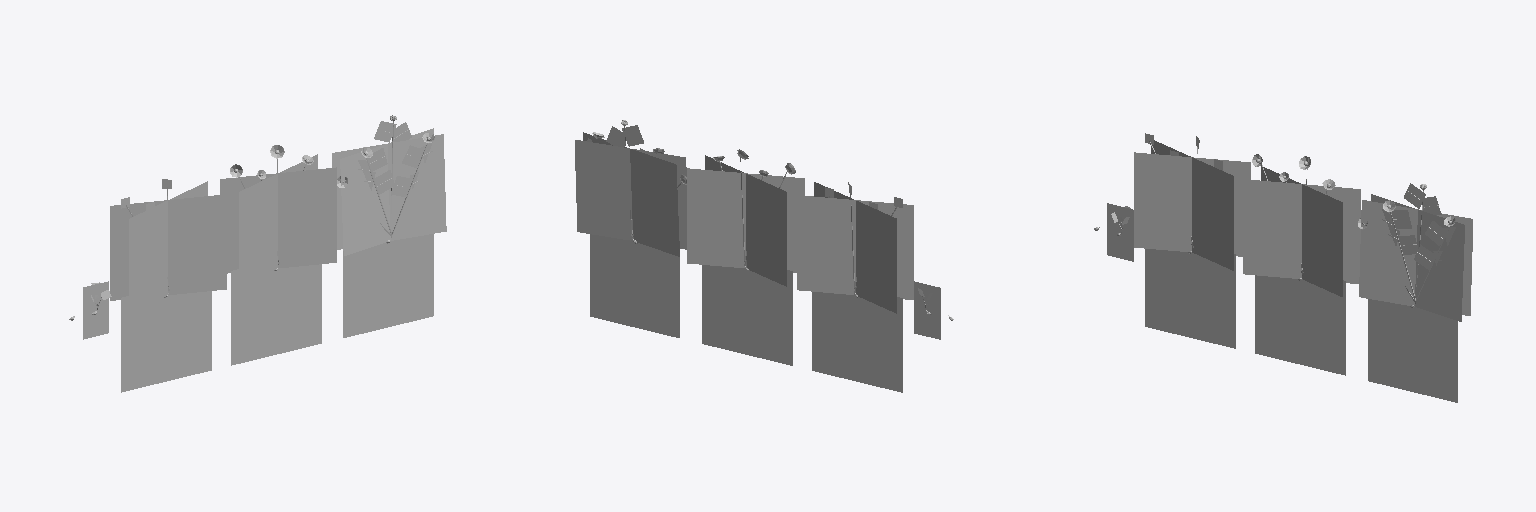
File: MODEL_RanunculusStages_G4_1.obj
The picture shows the model from 3 angles: view 1: azimuth 30°, elevation 25°; view 2: azimuth 150°, elevation 25°; view 3: azimuth 330°, elevation 25°; orthographic projection.
Visible parts, largest first — view 1: geo_plant_low1 geo_roots_plane, geo_plantBulb_low geo_roots_plane3, geo_roots_plane geo_plantBulb_low, geo_plantFlowers_low1 geo_roots_plane, geo_plantFlowers_low1 geo_roots_plane3, geo_plant_low1 geo_roots_plane3, geo_plantFlowers_low1 geo_roots_plane2, geo_plantBulb_low geo_roots_plane2, geo_plant_low1 geo_roots_plane2, geo_seedling_low1 geo_roots_plane, geo_seedling_low1 geo_roots_plane1; view 2: geo_plantFlowers_low1 geo_roots_plane, geo_roots_plane geo_plantBulb_low, geo_plant_low1 geo_roots_plane, geo_plantBulb_low geo_roots_plane2, geo_plantFlowers_low1 geo_roots_plane2, geo_plant_low1 geo_roots_plane2, geo_plant_low1 geo_roots_plane3, geo_plantFlowers_low1 geo_roots_plane3, geo_plantBulb_low geo_roots_plane3, geo_seedling_low1 geo_roots_plane, geo_seedling_low1 geo_roots_plane1; view 3: geo_plant_low1 geo_roots_plane, geo_plantFlowers_low1 geo_roots_plane2, geo_plantFlowers_low1 geo_roots_plane, geo_roots_plane geo_plantBulb_low, geo_plantBulb_low geo_roots_plane2, geo_plant_low1 geo_roots_plane2, geo_plantBulb_low geo_roots_plane3, geo_plantFlowers_low1 geo_roots_plane3, geo_plant_low1 geo_roots_plane3, geo_seedling_low1 geo_roots_plane, geo_seedling_low1 geo_roots_plane1.
Part boxes in pixels (x1,y1,x2,y2): geo_plant_low1 geo_roots_plane: (343,232,433,337); geo_plantBulb_low geo_roots_plane3: (110,194,226,300); geo_roots_plane geo_plantBulb_low: (121,291,211,392); geo_plantFlowers_low1 geo_roots_plane: (231,264,321,365); geo_plantFlowers_low1 geo_roots_plane3: (220,167,336,273); geo_plant_low1 geo_roots_plane3: (332,134,446,249); geo_plantFlowers_low1 geo_roots_plane2: (239,154,317,286); geo_plantBulb_low geo_roots_plane2: (129,181,207,313); geo_plant_low1 geo_roots_plane2: (340,128,433,255); geo_seedling_low1 geo_roots_plane: (83,306,108,339); geo_seedling_low1 geo_roots_plane1: (83,281,108,314); geo_plantFlowers_low1 geo_roots_plane: (702,261,792,365); geo_roots_plane geo_plantBulb_low: (812,287,902,392); geo_plant_low1 geo_roots_plane: (590,234,679,337); geo_plantBulb_low geo_roots_plane2: (797,195,913,299); geo_plantFlowers_low1 geo_roots_plane2: (687,168,804,272); geo_plant_low1 geo_roots_plane2: (575,140,686,249); geo_plant_low1 geo_roots_plane3: (583,132,679,256); geo_plantFlowers_low1 geo_roots_plane3: (705,155,786,286); geo_plantBulb_low geo_roots_plane3: (814,182,896,313); geo_seedling_low1 geo_roots_plane: (914,306,940,339); geo_seedling_low1 geo_roots_plane1: (914,281,940,314); geo_plant_low1 geo_roots_plane: (1368,297,1457,402); geo_plantFlowers_low1 geo_roots_plane2: (1243,179,1360,283); geo_plantFlowers_low1 geo_roots_plane: (1255,275,1345,375); geo_roots_plane geo_plantBulb_low: (1145,249,1235,348); geo_plantBulb_low geo_roots_plane2: (1134,152,1250,256); geo_plant_low1 geo_roots_plane2: (1359,200,1472,315); geo_plantBulb_low geo_roots_plane3: (1151,140,1233,270); geo_plantFlowers_low1 geo_roots_plane3: (1261,166,1342,296); geo_plant_low1 geo_roots_plane3: (1371,194,1464,321); geo_seedling_low1 geo_roots_plane: (1107,228,1133,261); geo_seedling_low1 geo_roots_plane1: (1107,203,1133,236).
Size of the model in its own units: 84.74 by 45.11 by 7.52.